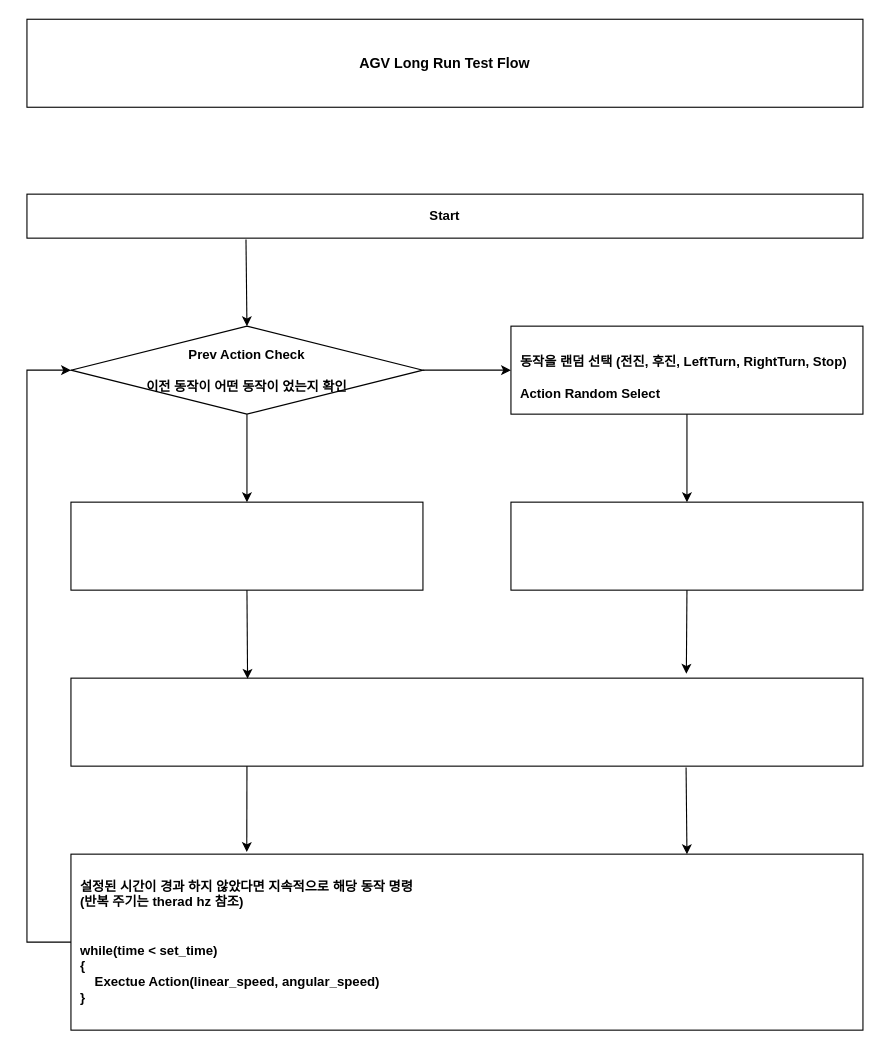
The diagram is 882 pixels wide and 1049 high, and some of its shapes have lost their labels. Here are the shapes that lost their labels. From the top down, the centre of each, then its label:
At (246,545): "동작시간 랜덤 선택 (0.0 ~ 1.0 sec) Stop Action (~1.0 sec)".
At (686,545): "동작 시간을 랜덤 선택 (1.0 ~ 20.0 sec) 어떤 동작이냐에 따라 시간 범위가 조금씩 다름 Time Random Select".
At (466,721): "선택된 동작과 시간을 설정 SetAction (action, time_sec)".
